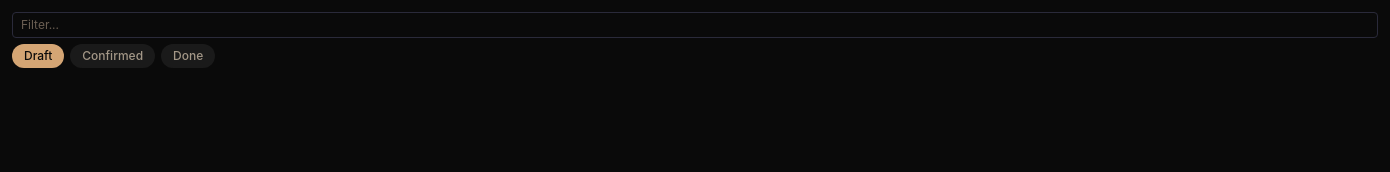
BadgeSelectionFilterWidget › filters badges by search text
Type "conf" into the field with placeholder "Filter..." at (695, 25), box [12,12,1378,38]
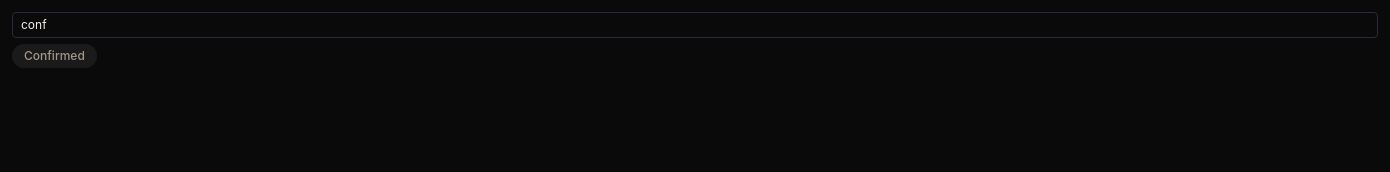
Expected: the button "Confirmed" is shown, [12,44,97,68]
Expected: the button "Draft" is gone
